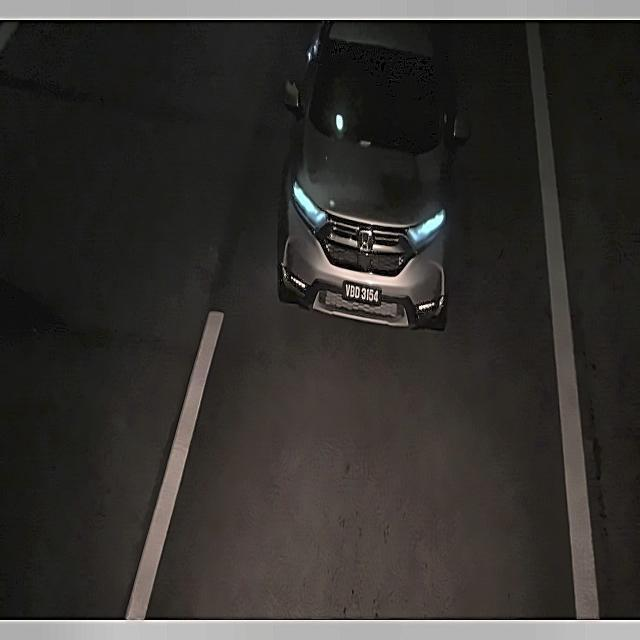car: (340, 275, 384, 313)
